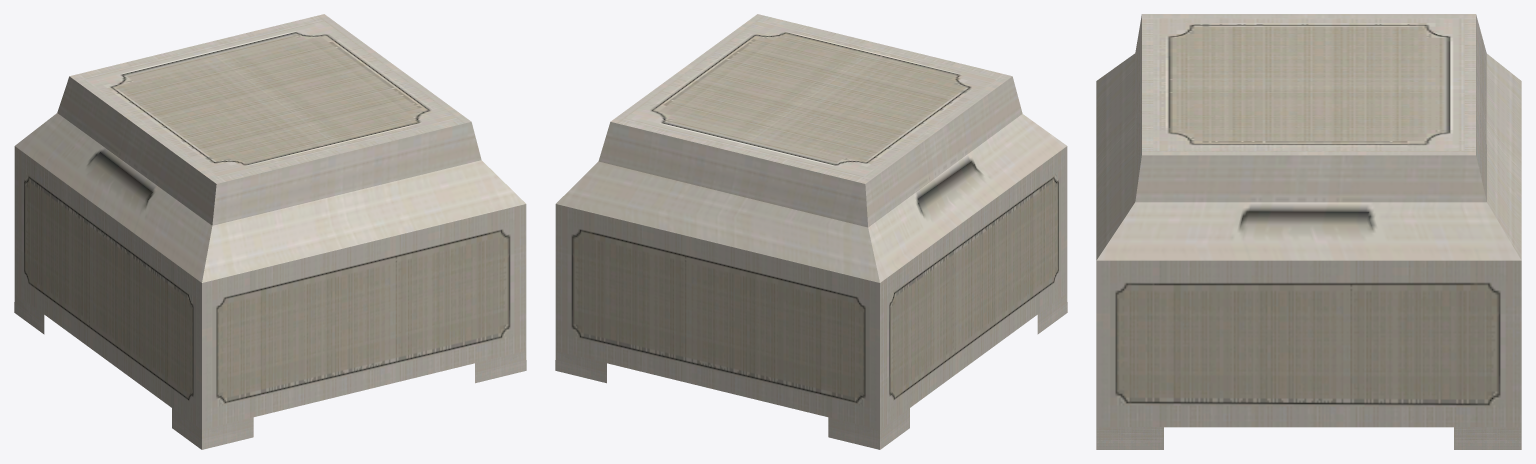
Rendered from frn_all_eleg_chest_s01_l1.fbx.
3 renders of one model, left to right at view 1: azimuth 30°, elevation 25°; view 2: azimuth 150°, elevation 25°; view 3: azimuth 270°, elevation 25°, orthographic. The views are drawn at different scales.
Visible parts, largest first — view 1: mesh_node; view 2: mesh_node; view 3: mesh_node.
Part boxes in pixels (box(x1,y1,x2,y2)): mesh_node: box(14, 14, 526, 449); mesh_node: box(555, 14, 1067, 449); mesh_node: box(1096, 14, 1521, 449).
Size of the model in its own units: 1.05 by 0.7469 by 1.05.
